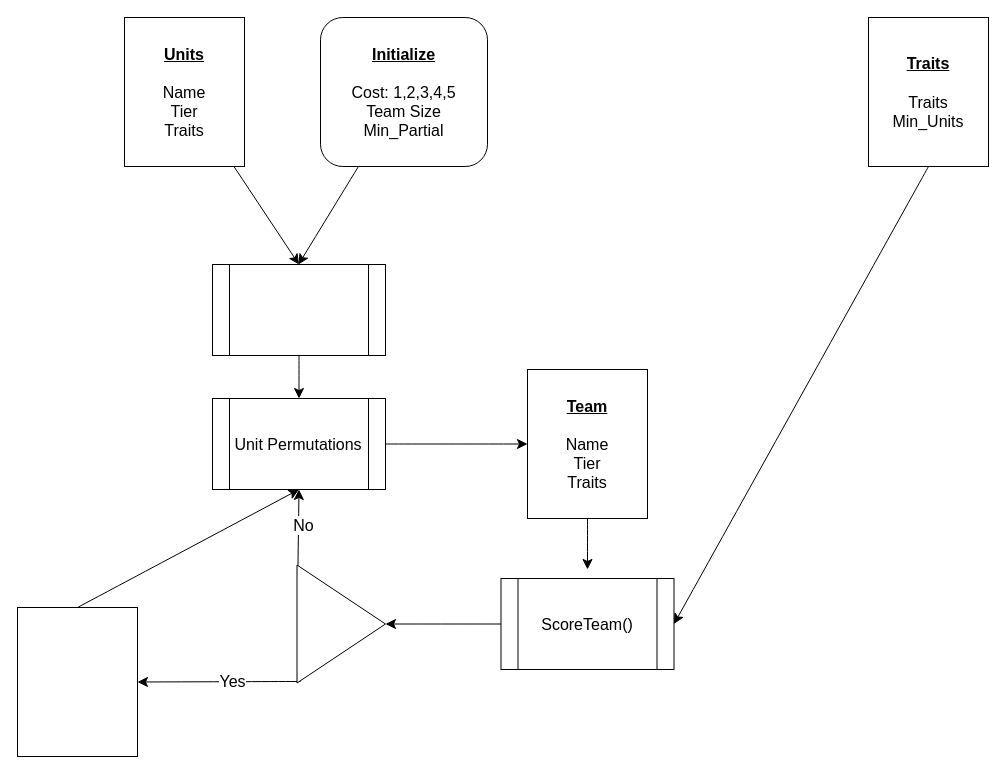
The diagram is 1006 pixels wide and 774 high, and some of its shapes have lost their labels. Each missing label, with the centre of its shape:
"Filter Units" belongs at (x=299, y=310).
"Pass" belongs at (x=341, y=623).
"Save Team" belongs at (x=77, y=681).
